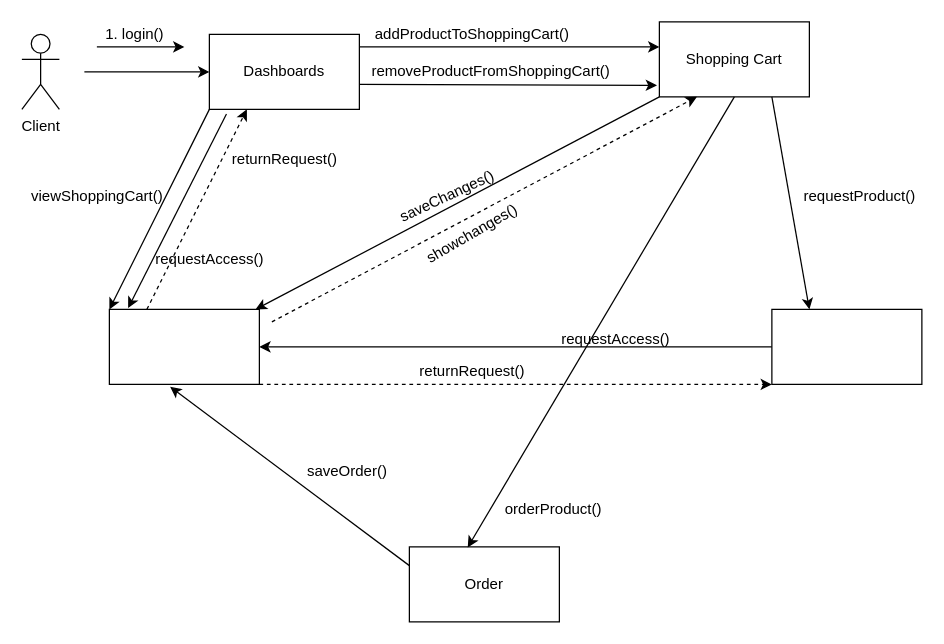
This 944x644 diagram has some shape labels left out. Here are the shapes that lost their labels. From the top down, the centre of each, then its label:
(183,346): Database
(846,346): Product
